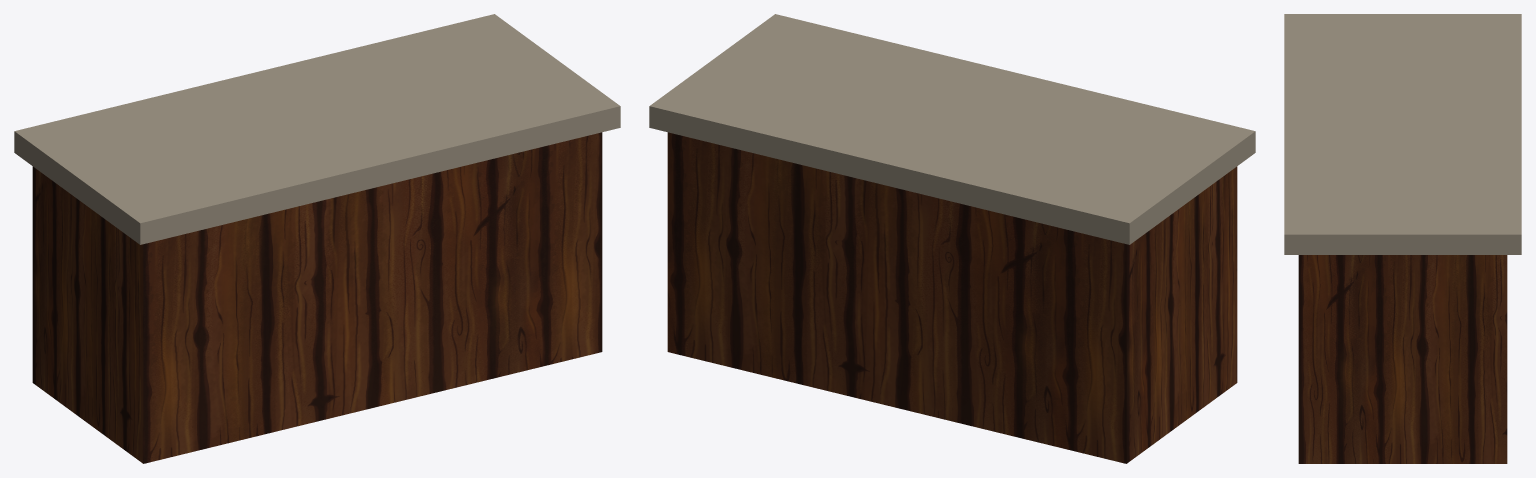
File: counter.glb
3 views of the same model, side by side, from view 1: azimuth 30°, elevation 25°; view 2: azimuth 150°, elevation 25°; view 3: azimuth 270°, elevation 25° (orthographic). The views are drawn at different scales.
Visible parts, largest first — view 1: cabinet, countertop; view 2: cabinet, countertop; view 3: countertop, cabinet.
Boxes of the visible parts, x1,y1,x2,y2 form: cabinet: [32, 132, 602, 463]; countertop: [14, 14, 620, 244]; cabinet: [667, 132, 1237, 463]; countertop: [649, 14, 1255, 244]; countertop: [1284, 14, 1521, 254]; cabinet: [1298, 255, 1507, 463].
Bounding box in the file's own units: 6 × 2.97 × 2.72.
Materials: 2 (1 with a texture image).
